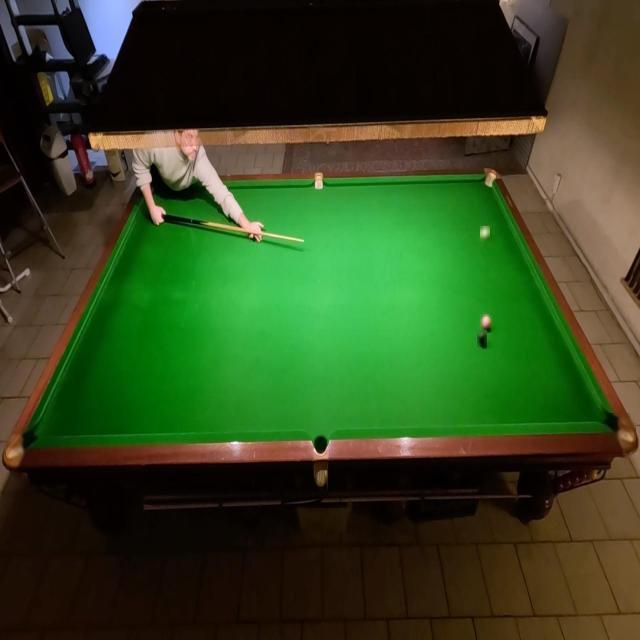Ball: (480, 314, 492, 330), (477, 330, 487, 347), (480, 226, 490, 241)
Pocket: (6, 426, 38, 470), (603, 414, 636, 452), (312, 434, 329, 456), (482, 171, 498, 190), (313, 174, 325, 190)
